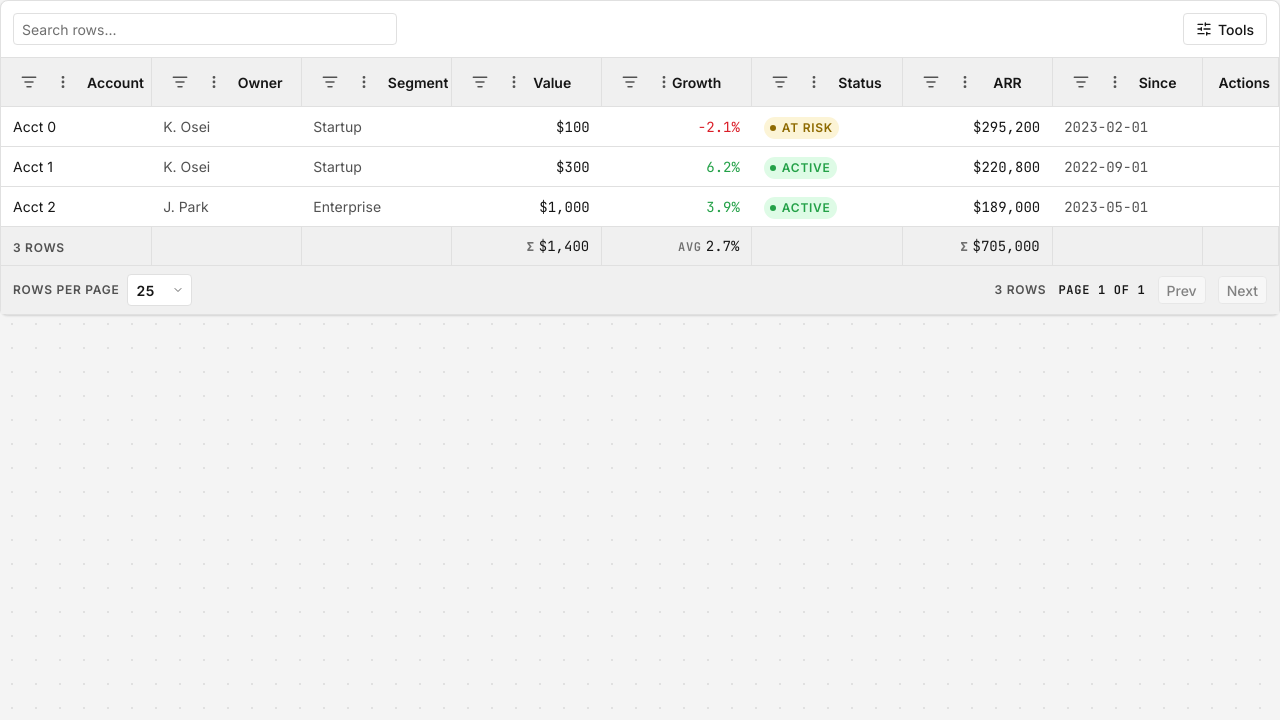
Scenario: DataGrid grouping & aggregation › shows grouping chips and removes grouping from the chip
Click the button named "Segment column menu" at (364, 82), box [348,66,380,98]
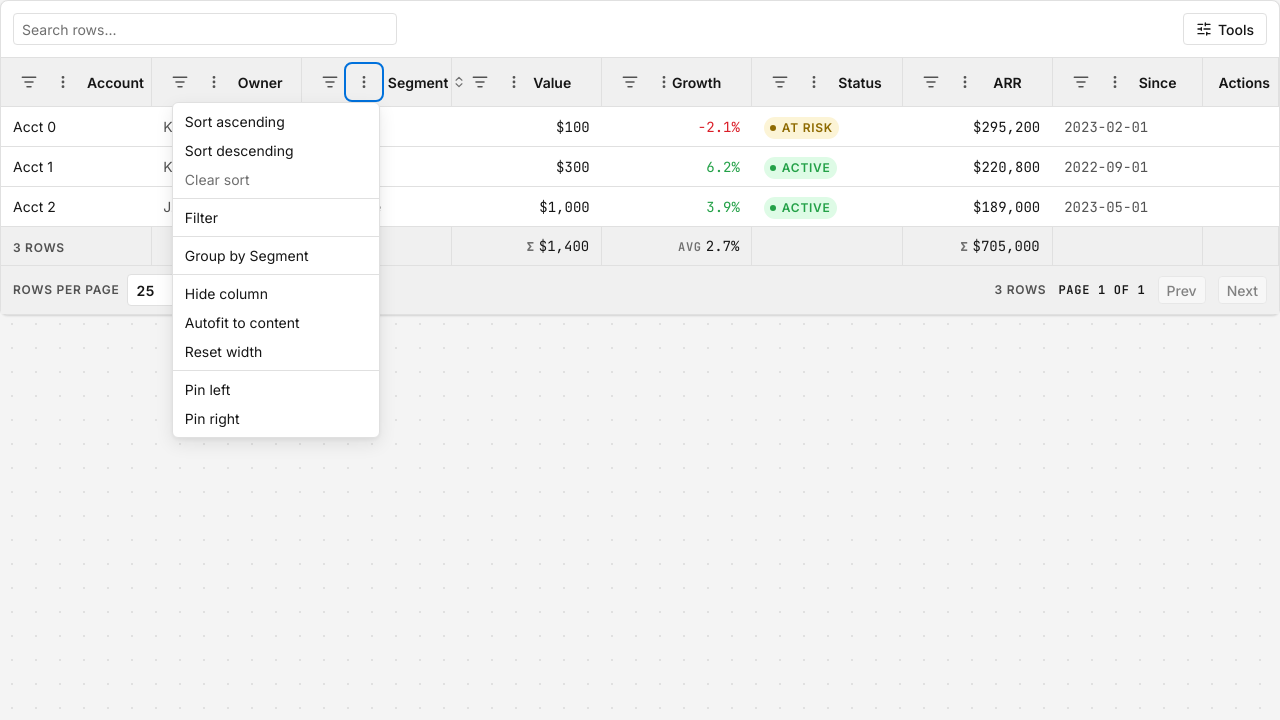
Click the menu item "Group by Segment" at (276, 256), box [173,241,379,270]
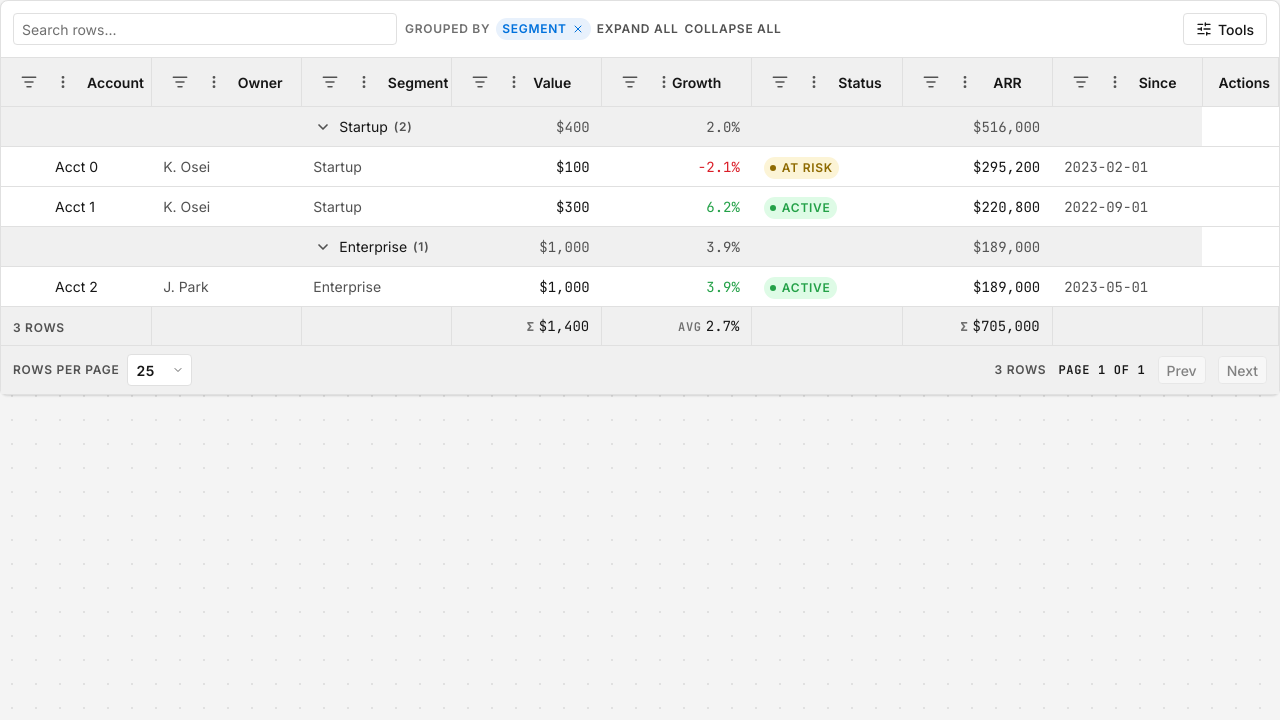
Expected: the text "Segment" is shown, [496,18,591,40]
Click the button named "Remove grouping by Segment" at (578, 29), box [571,22,585,36]
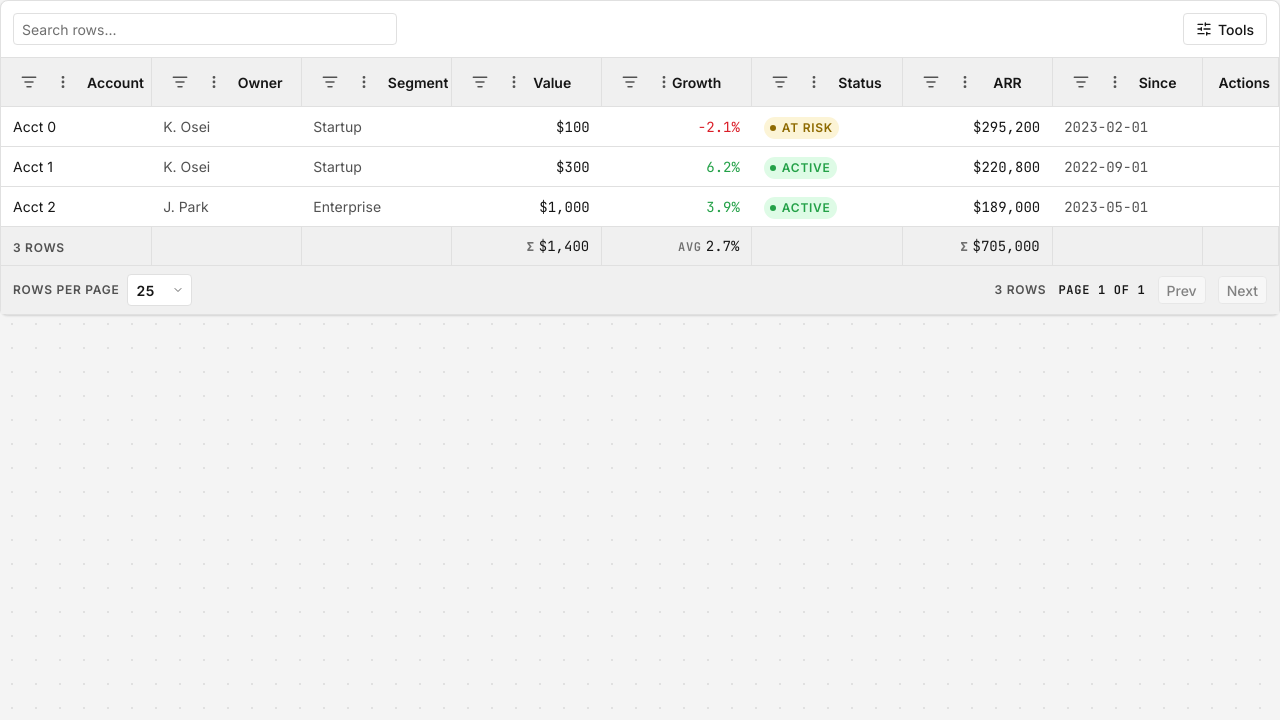
Expected: the element with test id "grouping-chips" is gone
